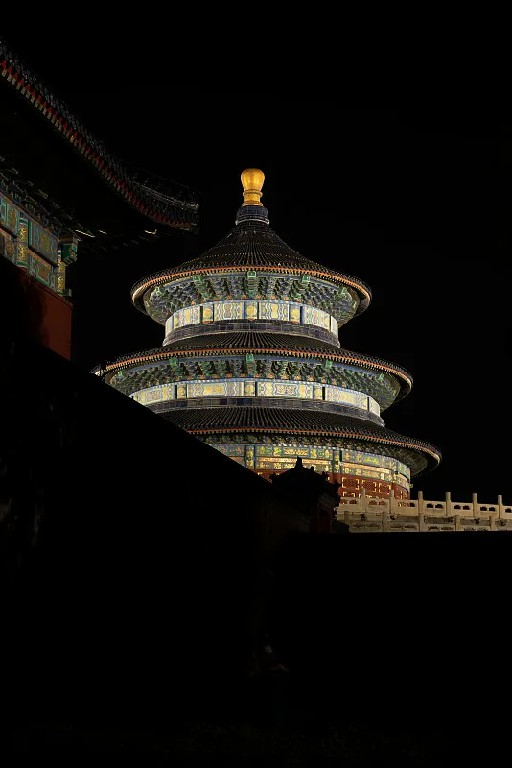Heaven: (85, 167, 442, 501)
